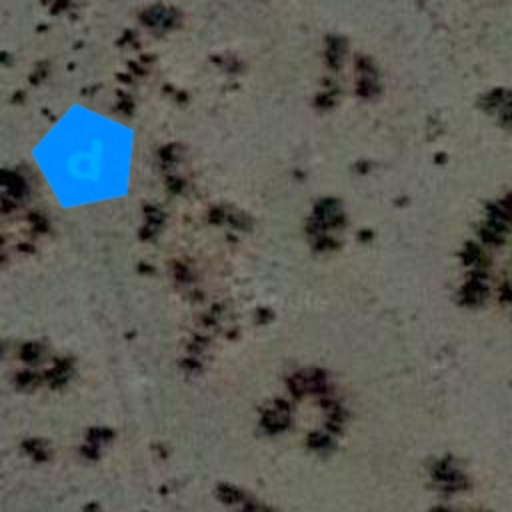pentagon: (24, 96, 148, 220)
